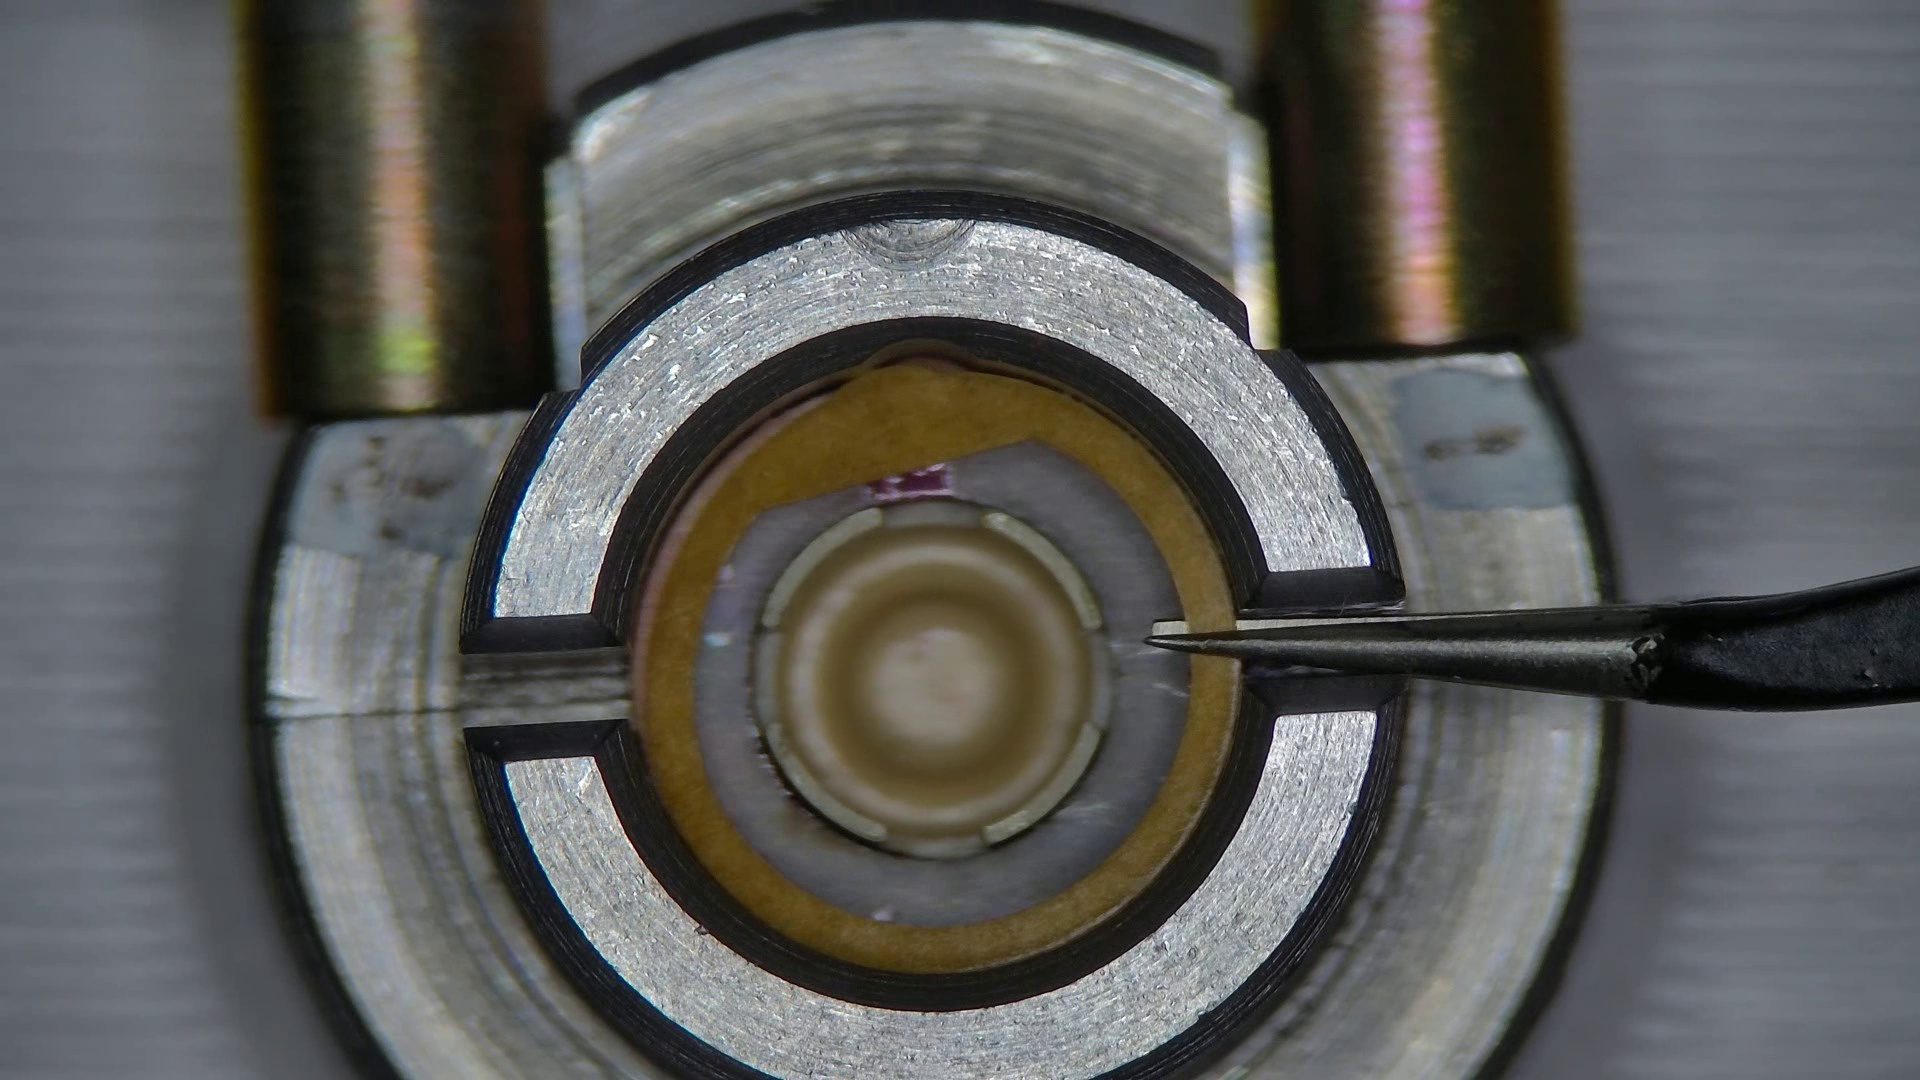YellowOring: (696, 448, 1184, 924)
redOring: (640, 363, 1238, 969)
